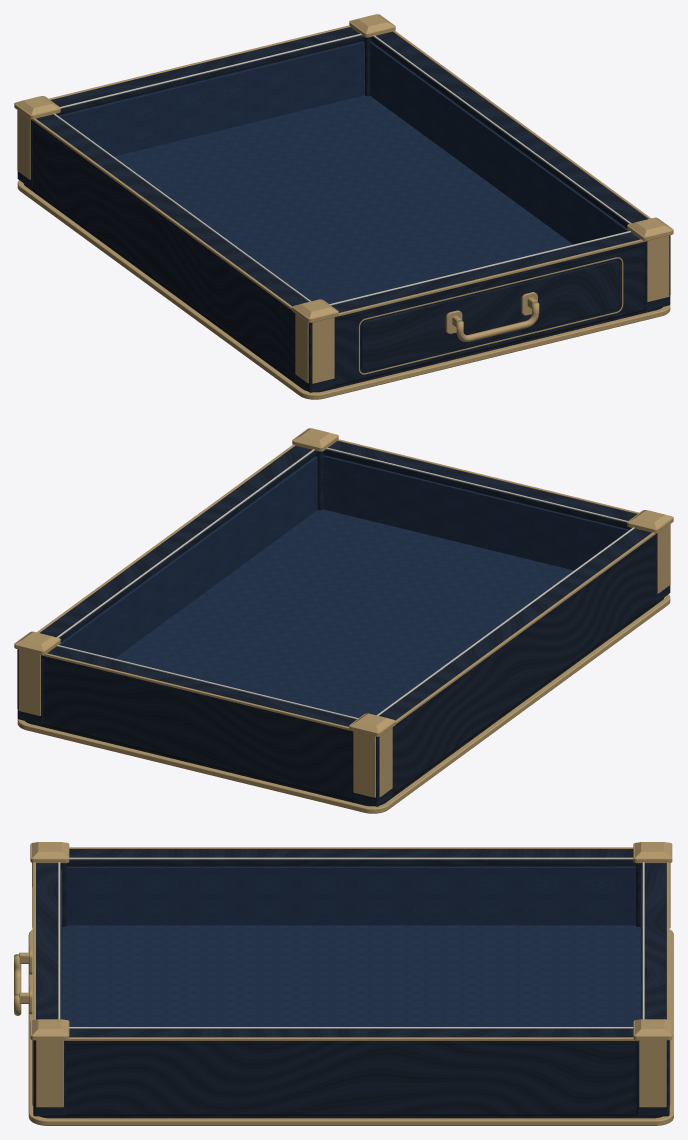
Rendered from shelf.glb.
The picture shows the model from 3 angles, top to bottom: view 1: azimuth 30°, elevation 25°; view 2: azimuth 150°, elevation 25°; view 3: azimuth 270°, elevation 25°; orthographic projection. The views are drawn at different scales.
Visible parts, largest first — view 1: 02 Woven navy contact surface, 01 Ink navy stained wood, 03 Satin champagne brass, 04 Warm silver pinstripe, 05 Graphite contact foot; view 2: 02 Woven navy contact surface, 01 Ink navy stained wood, 03 Satin champagne brass, 04 Warm silver pinstripe, 05 Graphite contact foot; view 3: 02 Woven navy contact surface, 01 Ink navy stained wood, 03 Satin champagne brass, 04 Warm silver pinstripe, 05 Graphite contact foot.
Boxes of the visible parts, x1,y1,x2,y2 form: 02 Woven navy contact surface: (58,41,628,303); 01 Ink navy stained wood: (17,27,670,392); 03 Satin champagne brass: (14,14,673,399); 04 Warm silver pinstripe: (53,33,631,305); 05 Graphite contact foot: (31,187,645,386); 02 Woven navy contact surface: (59,455,629,717); 01 Ink navy stained wood: (17,441,670,806); 03 Satin champagne brass: (14,428,673,813); 04 Warm silver pinstripe: (56,447,634,719); 05 Graphite contact foot: (42,601,656,800); 02 Woven navy contact surface: (61,866,641,1026); 01 Ink navy stained wood: (33,849,669,1118); 03 Satin champagne brass: (14,842,673,1125); 04 Warm silver pinstripe: (58,857,644,1028); 05 Graphite contact foot: (65,1114,637,1115).
Bounding box in the file's own units: 0.166 × 0.038 × 0.2373.
5 materials, 2 textured.
